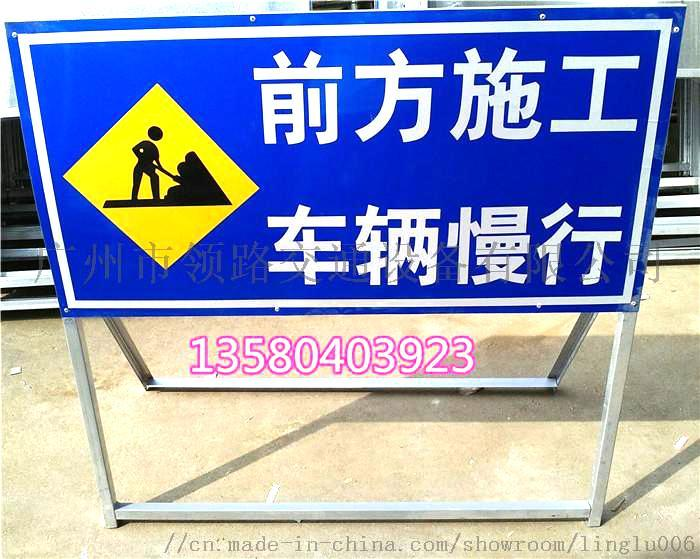sign: (12, 25, 679, 310)
